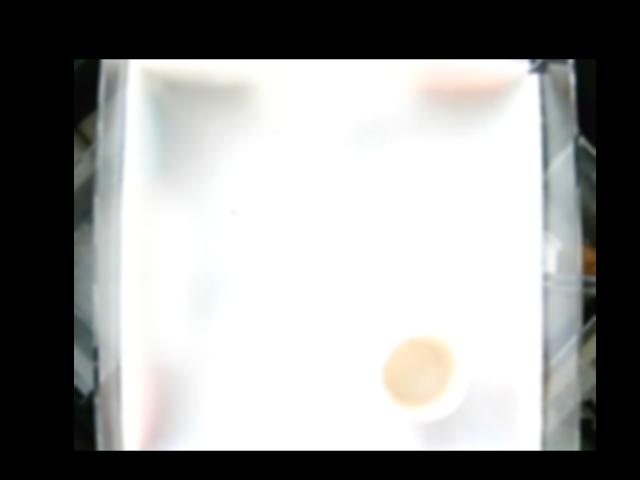Cup: (377, 327, 471, 421)
